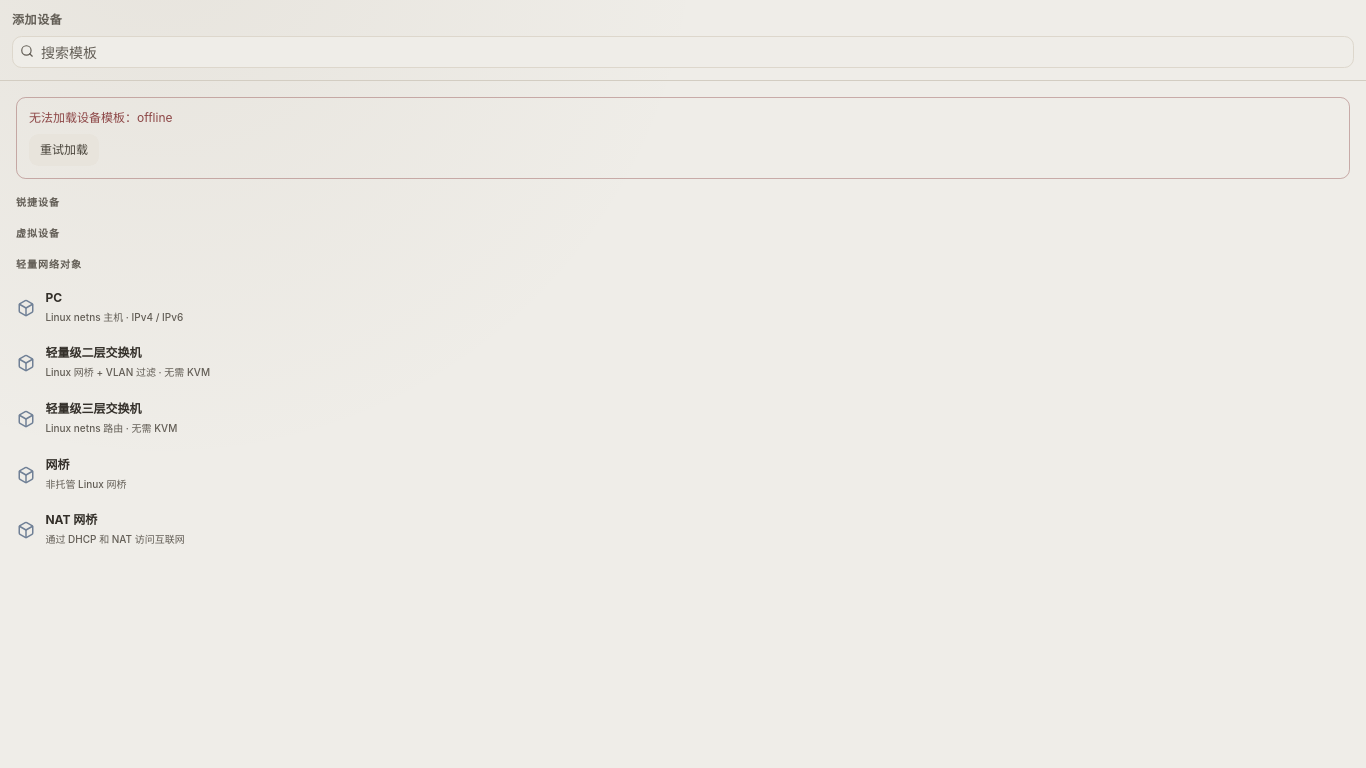
TopologyResourceCatalog › shows a recoverable Chinese error when template loading fails
The width and height of the screenshot is (1366, 768).
Expected: the message "无法加载设备模板：offline 重试加载" is shown, [16,97,1350,179]
Click the button "重试加载" at (64, 150), box [29,134,99,166]
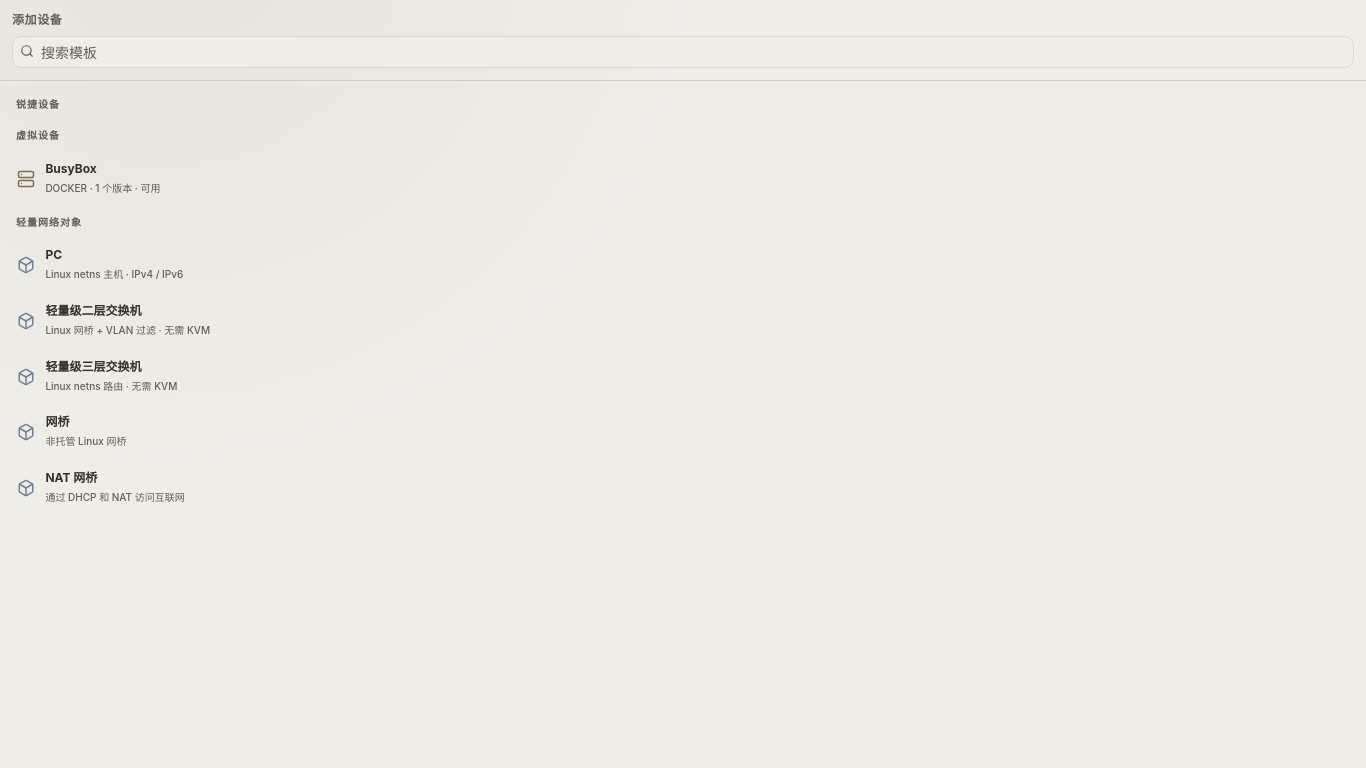
Expected: the text "BusyBox" is shown, [45,161,97,176]
